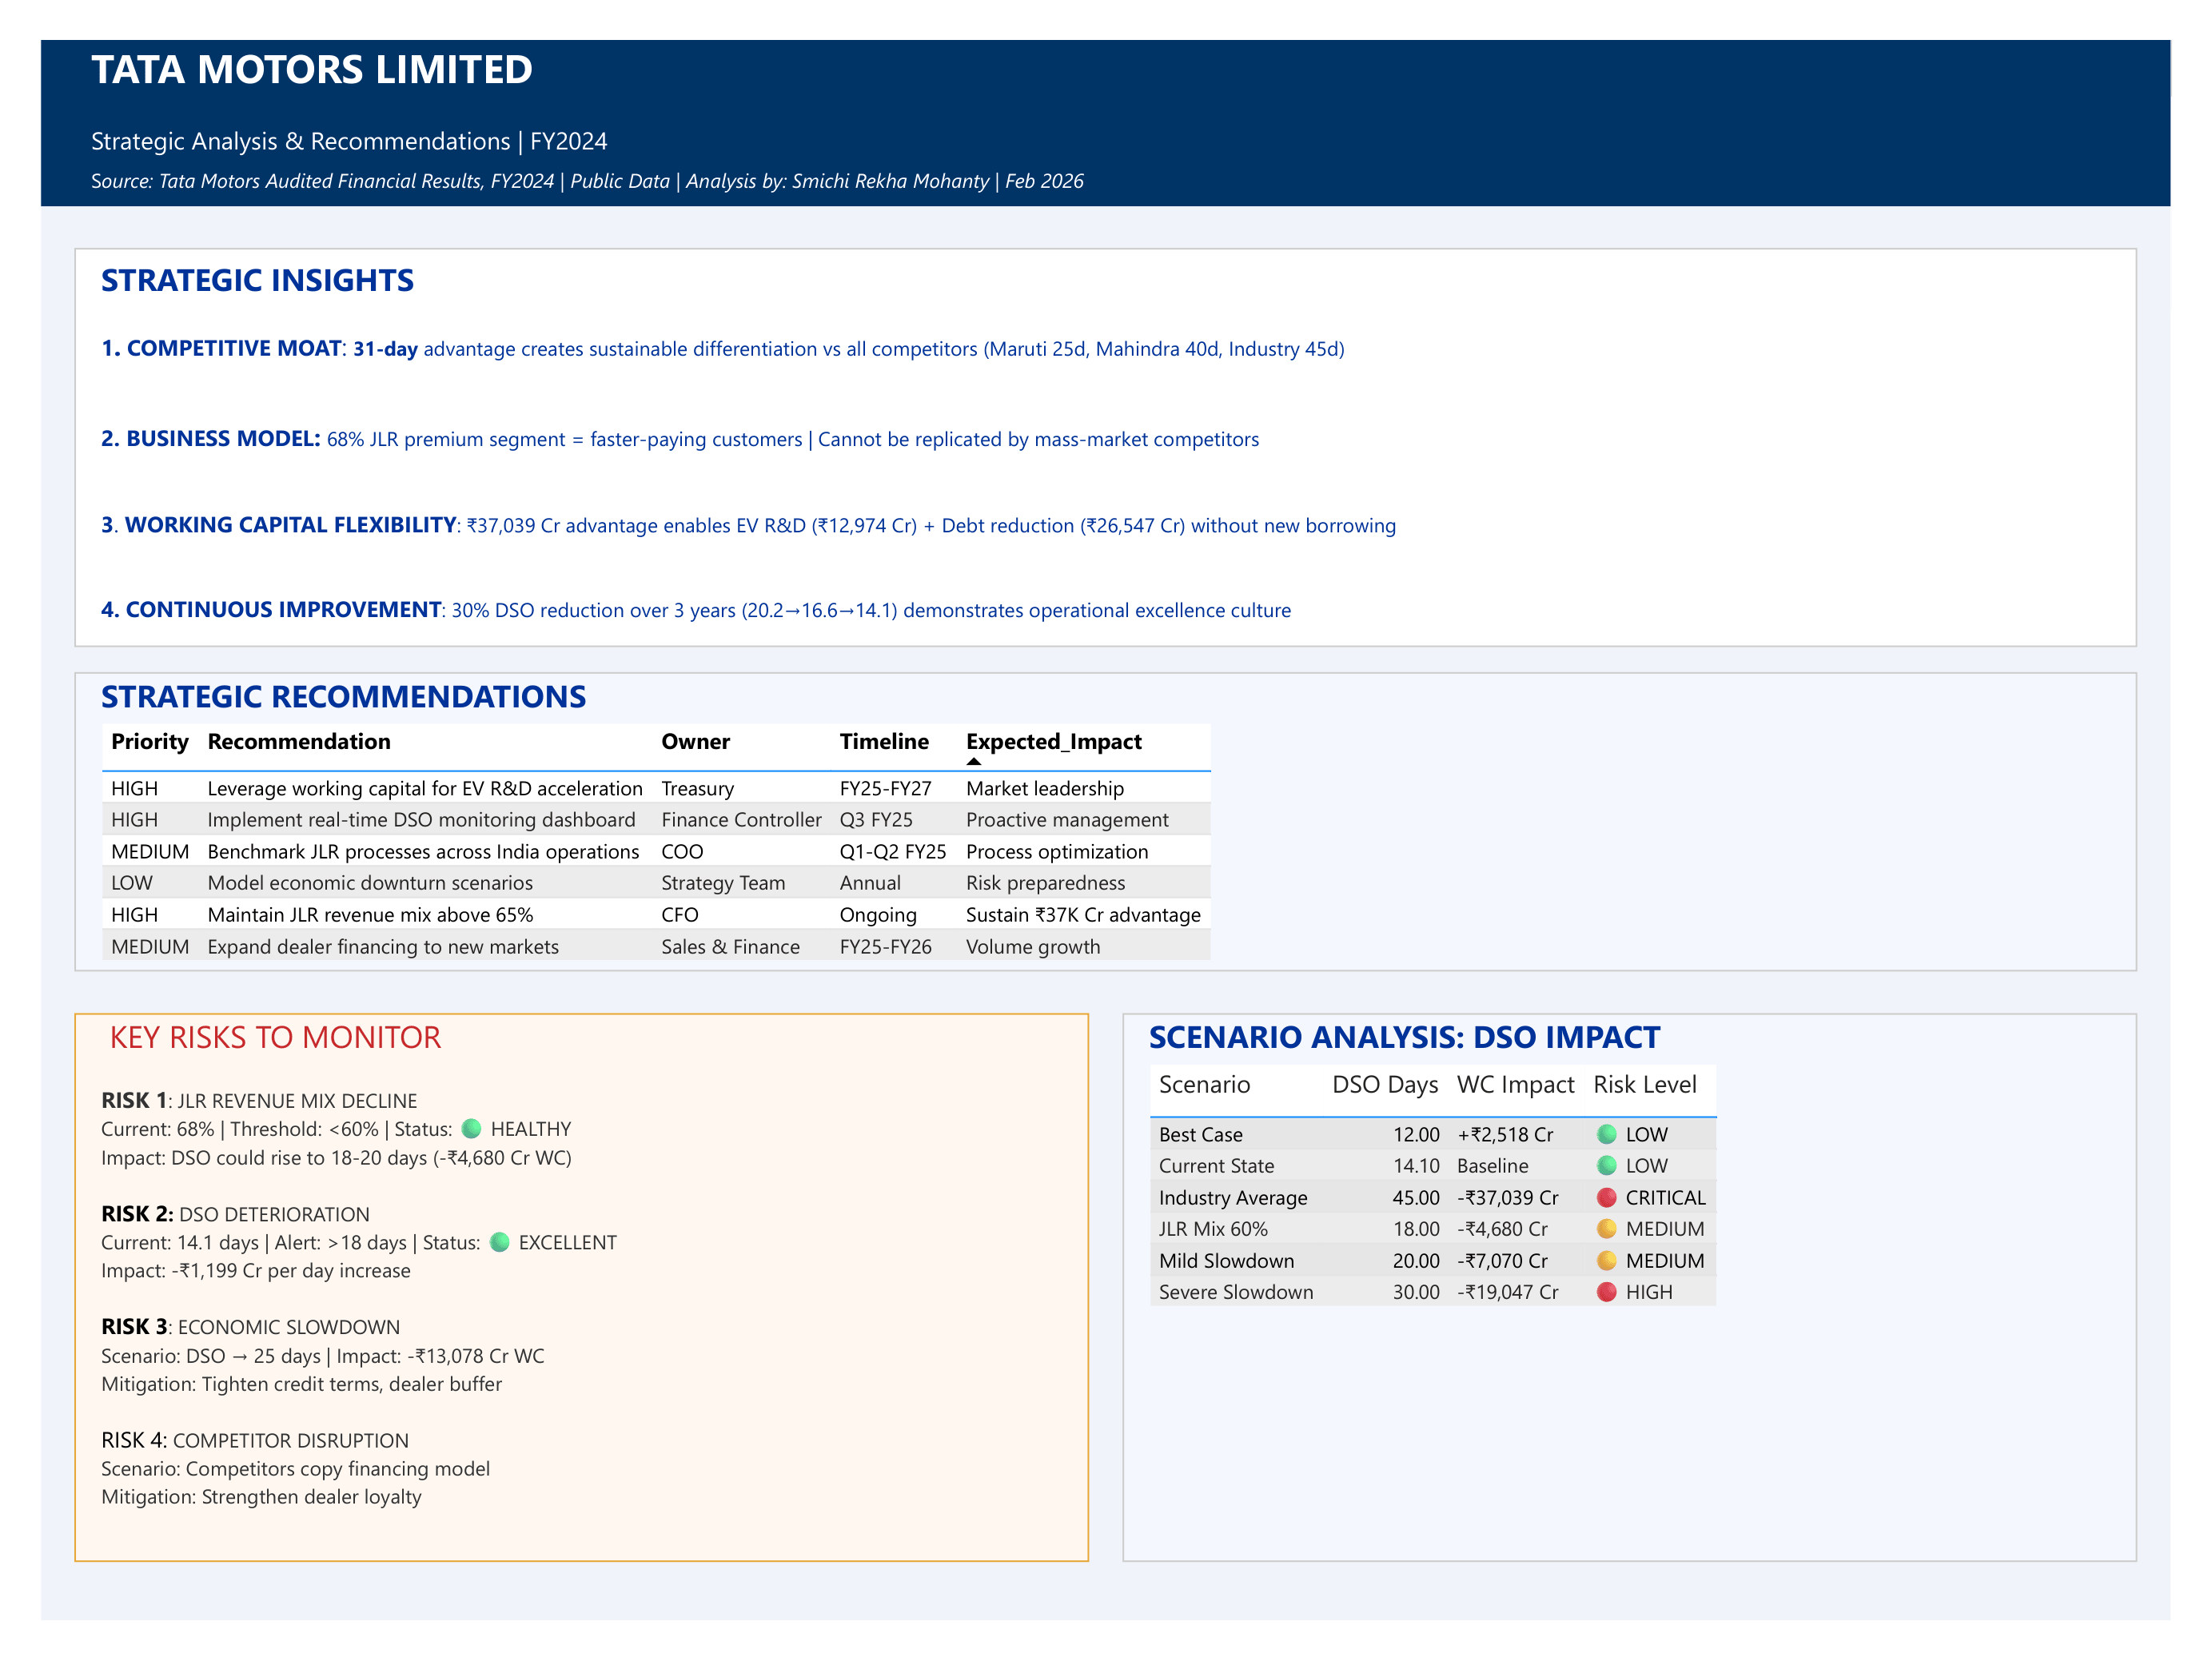

Layout of this report page (visuals, bound fields, positions):
{"tool":"powerbi","page":{"name":"Strategic Analysis & Risk","canvas":[1280,950],"ordinal":1},"visuals":[{"type":"shape","box":[0,0,1280,100],"z":1000},{"type":"textbox","box":[20,0,1000,42],"z":2000},{"type":"textbox","box":[20,50,1000,27],"z":3000},{"type":"textbox","box":[20,75,1000,20],"z":4000},{"type":"textbox","box":[20,125,1240,240],"z":5000},{"type":"tableEx","title":"STRATEGIC RECOMMENDATIONS","fields":{"Values":["Recommendations.Priority","Recommendations.Recommendation","Recommendations.Owner","Recommendations.Timeline","Recommendations.Expected_Impact"]},"box":[20,380,1240,180],"z":6000},{"type":"textbox","box":[20,585,610,330],"z":7000},{"type":"tableEx","title":"SCENARIO ANALYSIS: DSO IMPACT","fields":{"Values":["Scenarios.Scenario","Sum(Scenarios.DSO_Days )","Scenarios.WC_Impact","Scenarios.Risk Level"]},"box":[650,585,610,330],"z":8000}]}

Visuals, with their boxes on the page's 1280x950 design canvas (x1, y1, x2, y2). These are canvas units, not pixel positions in the 2212x1661 screenshot, which may show the page scaled, cropped or inside an application window:
shape: 0, 0, 1280, 100
textbox: 20, 0, 1020, 42
textbox: 20, 50, 1020, 77
textbox: 20, 75, 1020, 95
textbox: 20, 125, 1260, 365
"STRATEGIC RECOMMENDATIONS" tableEx: 20, 380, 1260, 560
textbox: 20, 585, 630, 915
"SCENARIO ANALYSIS: DSO IMPACT" tableEx: 650, 585, 1260, 915
